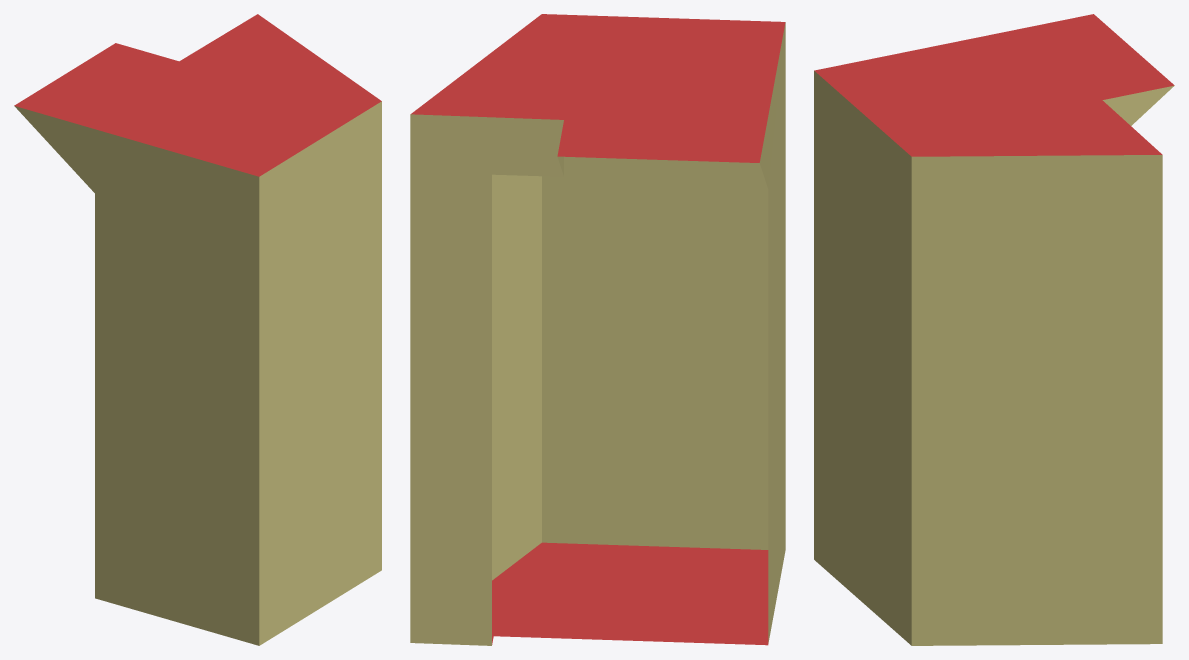
3 views of the same model, side by side, from view 1: azimuth 30°, elevation 25°; view 2: azimuth 150°, elevation 25°; view 3: azimuth 270°, elevation 25° (orthographic). The views are drawn at different scales.
Size of the model in its own units: 5.28 by 5.64 by 8.43.
